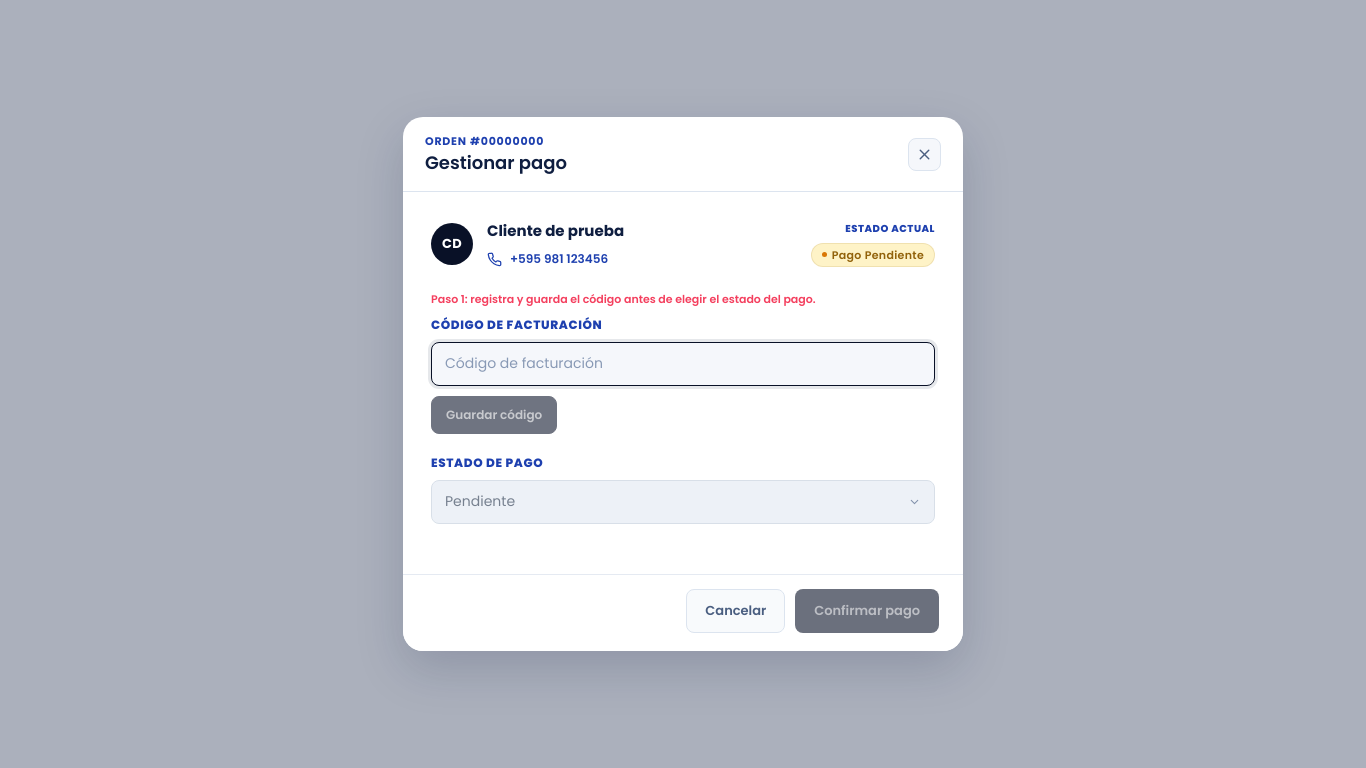
Test case: PaymentFormModal layout › guides Caja to save a billing code before enabling the payment flow
expect the dropdown is disabled: met, box [431, 480, 935, 524]
Type "FAC-001" into the field labelled "Código de facturación" at point(683, 364), box [431, 342, 935, 386]
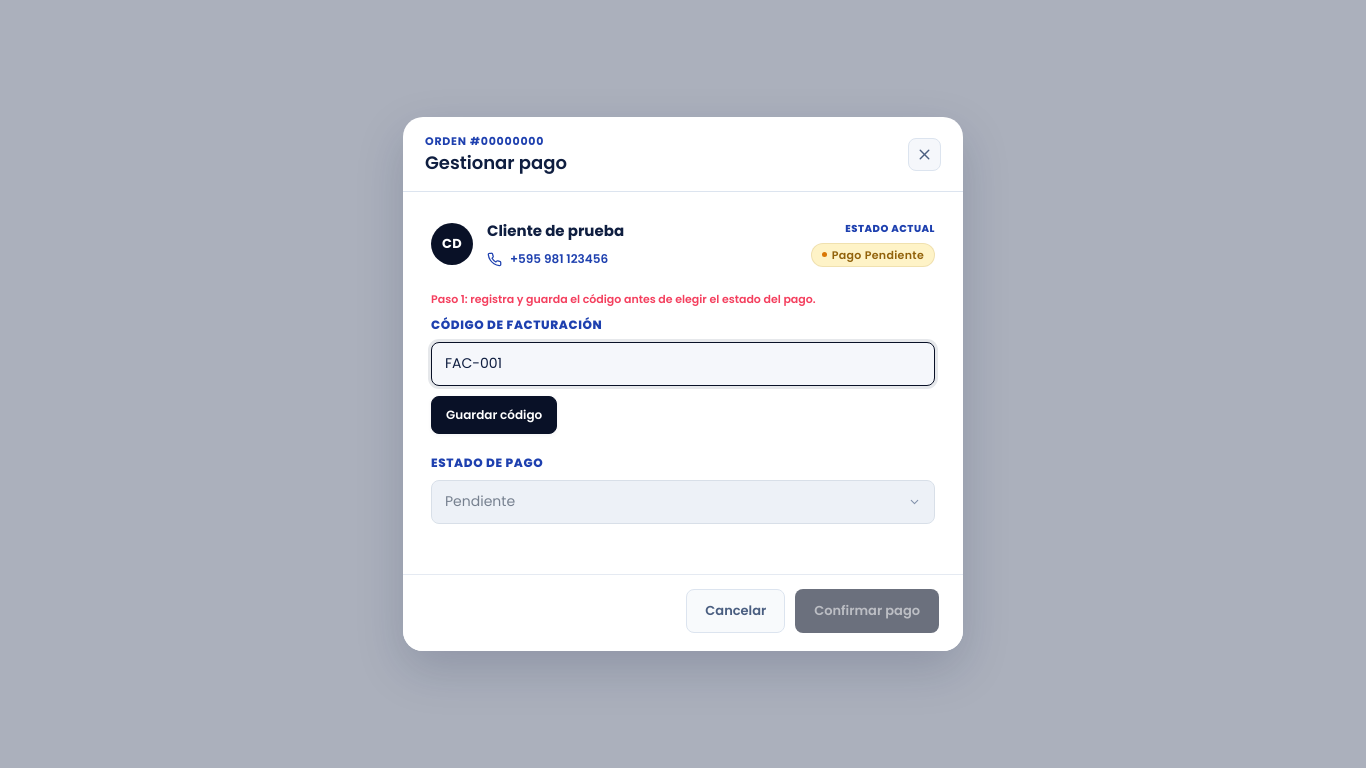
expect the dropdown is disabled: met, box [431, 480, 935, 524]
expect the button "Confirmar pago" is disabled: met, box [795, 588, 939, 632]
Click the button "Guardar código" at point(494, 414), box [431, 396, 557, 434]
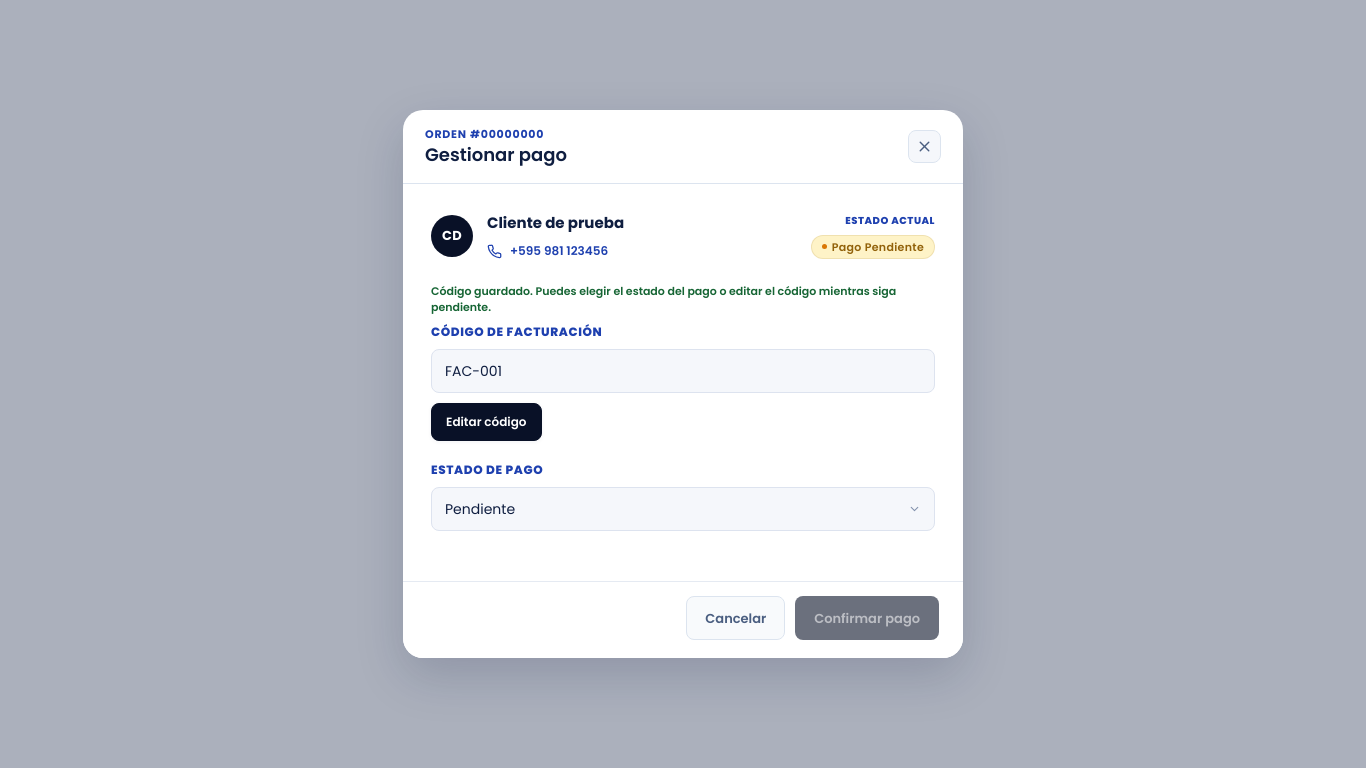
expect the dropdown is enabled: met
expect the button "Editar código" is shown: met, box [431, 404, 542, 442]
expect the text "Código guardado. Puedes elegir el estado del pago" is shown: met, box [431, 283, 896, 314]
Select "Pagado" in the dropdown at point(683, 510), box [431, 488, 935, 532]
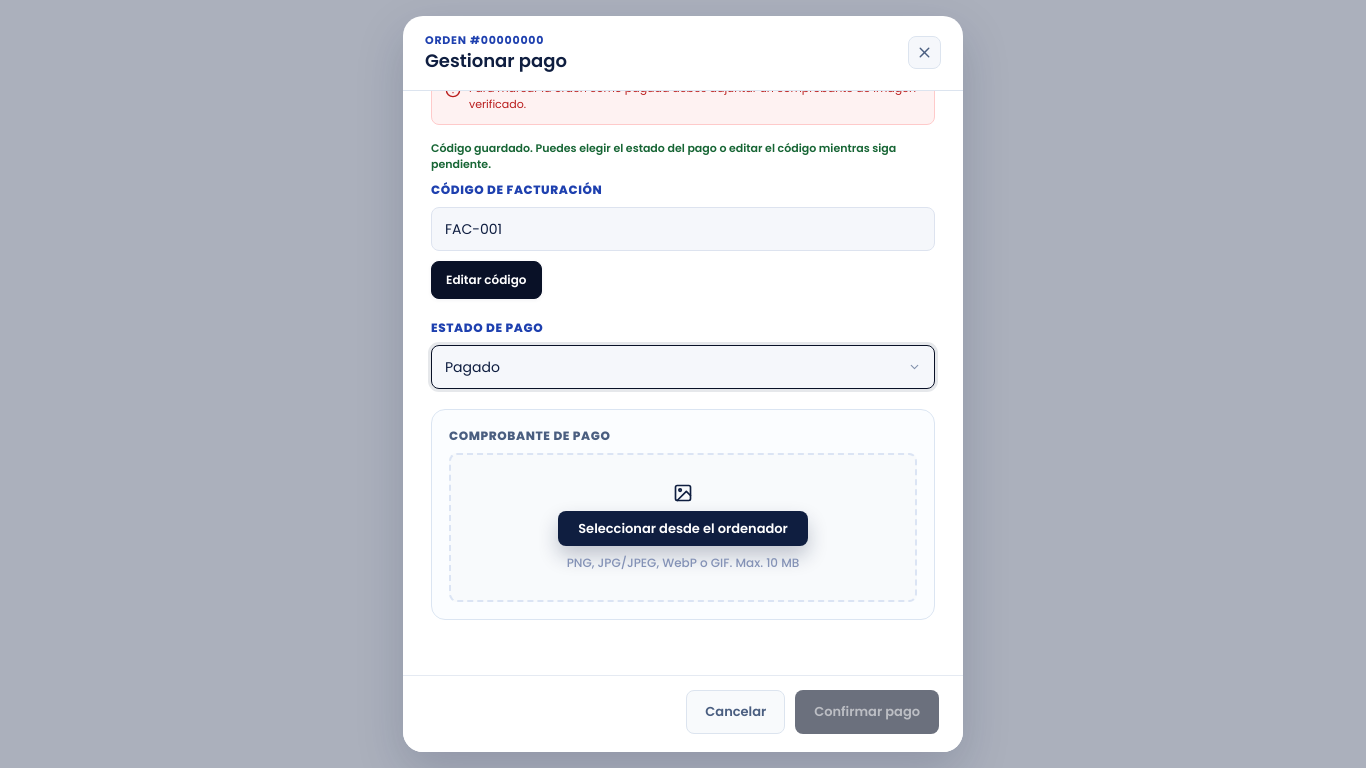
expect the button "Confirmar pago" is disabled: met, box [795, 690, 939, 734]
expect the text "Comprobante de pago" is shown: met, box [449, 427, 610, 444]
